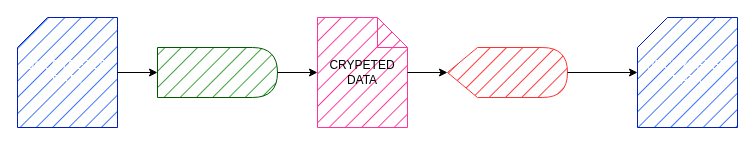
Some shapes in this 755 by 145 pixel diagram are drawn without their labels. Here are the shapes that lost their labels. From the top down, the centre of each, then its label:
pixel 217 72: PUBLIC KEY
pixel 507 72: PRIVATE KEY
